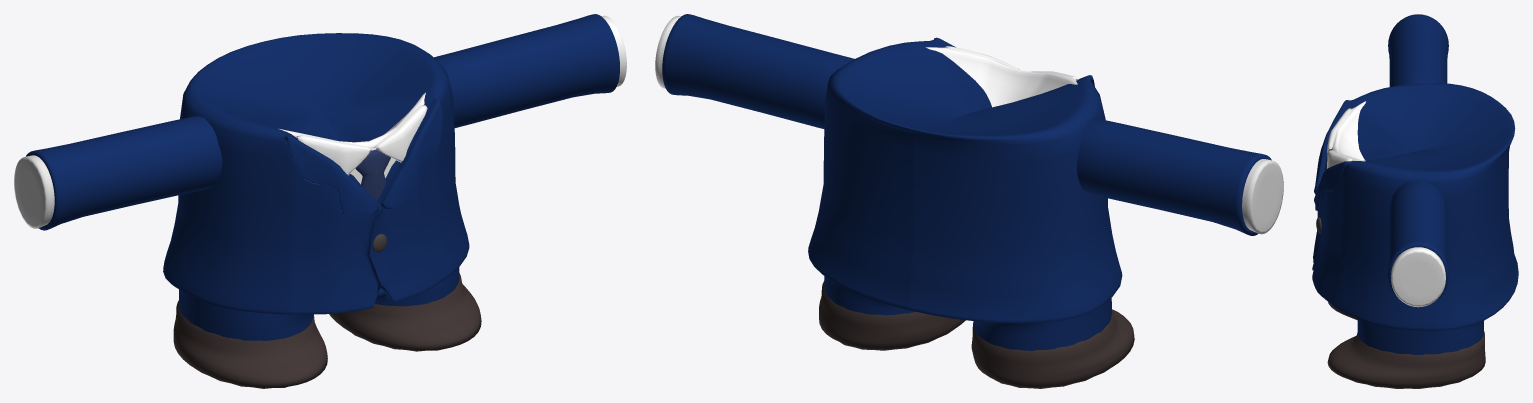
The model's file is vest.glb.
3 renders of one model, left to right at view 1: azimuth 30°, elevation 25°; view 2: azimuth 150°, elevation 25°; view 3: azimuth 270°, elevation 25°, orthographic. The views are drawn at different scales.
Visible parts, largest first — view 1: AO_vest; view 2: AO_vest; view 3: AO_vest.
Boxes of the visible parts, x1=… form: AO_vest: x1=14, y1=14, x2=626, y2=388; AO_vest: x1=655, y1=14, x2=1283, y2=388; AO_vest: x1=1312, y1=14, x2=1518, y2=388.
Bounding box in the file's own units: 1.07 × 0.4364 × 0.3913.
Materials: 1 (1 with a texture image).
